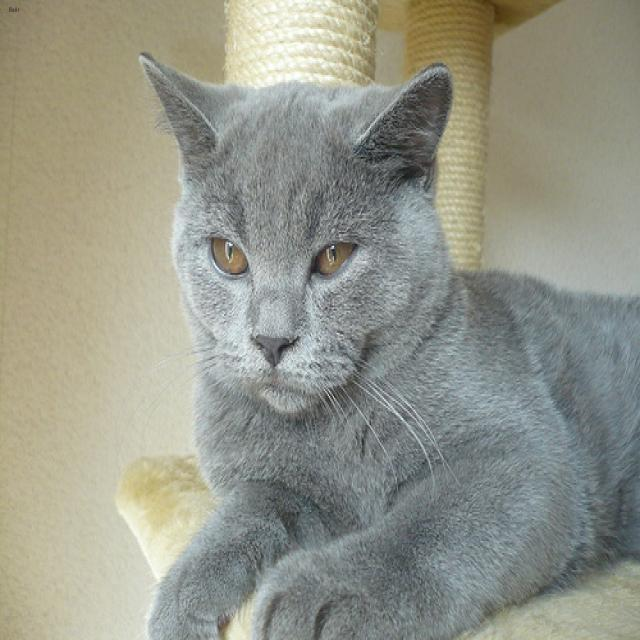British_Shorthair: (137, 48, 449, 413)
